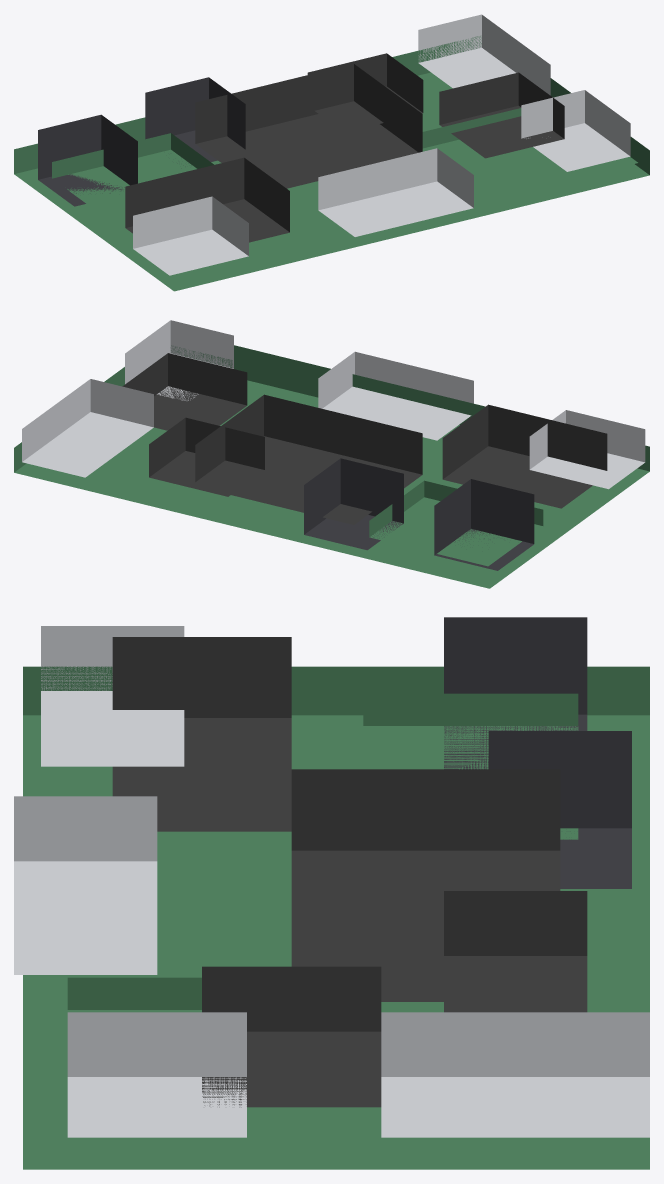
File: mainboard.gltf
3 views of the same model, one above another, from view 1: azimuth 30°, elevation 25°; view 2: azimuth 150°, elevation 25°; view 3: azimuth 270°, elevation 25° (orthographic). The views are drawn at different scales.
Visible parts, largest first — view 1: mainboard; view 2: mainboard; view 3: mainboard.
Boxes of the visible parts, x1,y1,x2,y2 form: mainboard: (14,14,649,291); mainboard: (14,320,649,588); mainboard: (14,617,649,1169).
Size of the model in its own units: 0.12 by 0.013 by 0.071.
